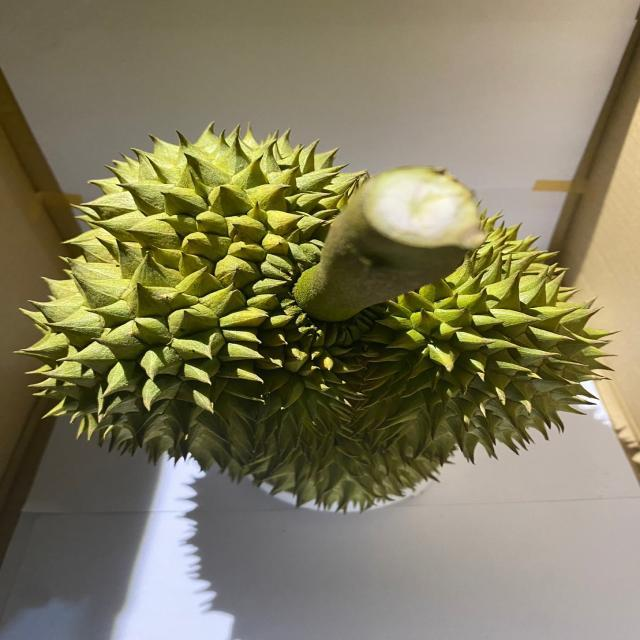immature: (11, 115, 619, 514)
